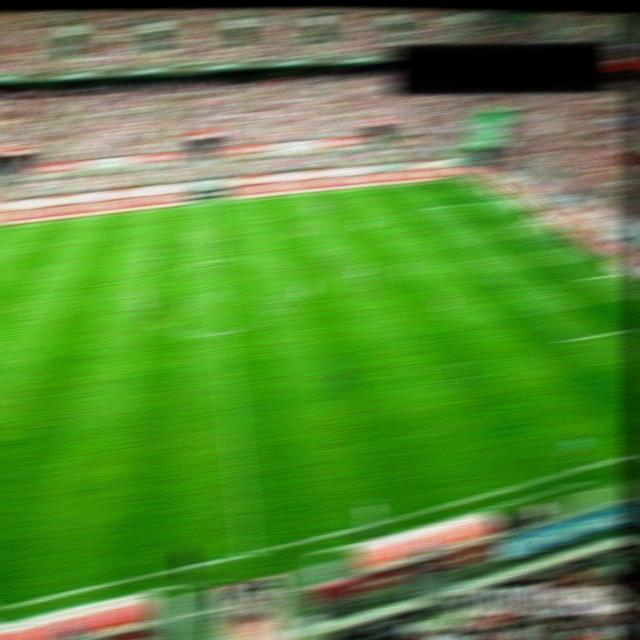bigarea_bottom_inner: (558, 335, 579, 345)
bigarea_top_inner: (408, 203, 430, 214)
bigarea_top_outter: (488, 195, 509, 206)
bottom_arc_area_intersection: (492, 276, 514, 286)
corner: (452, 174, 474, 185)
halfcircle_bottom: (212, 328, 233, 339)
halfcircle_top: (204, 256, 225, 267)
midline_bottom_intersection: (233, 544, 262, 563)
midline_top_intersection: (197, 198, 218, 208)
smallarea_bottom_inner: (571, 273, 593, 283)
smallarea_bottom_outter: (603, 268, 625, 279)
smallarea_top_inner: (498, 221, 519, 231)
smallarea_top_outter: (524, 219, 546, 229)
top_arc_area_intersection: (442, 232, 463, 242)
